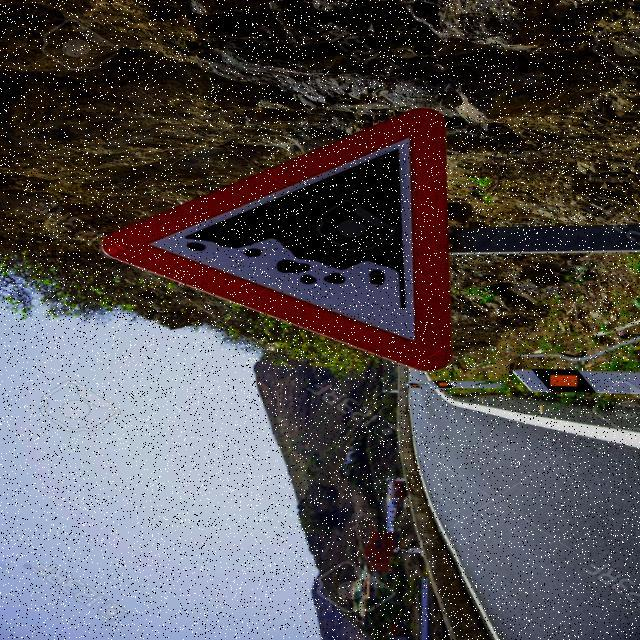Traffic sign: (96, 104, 456, 372)
